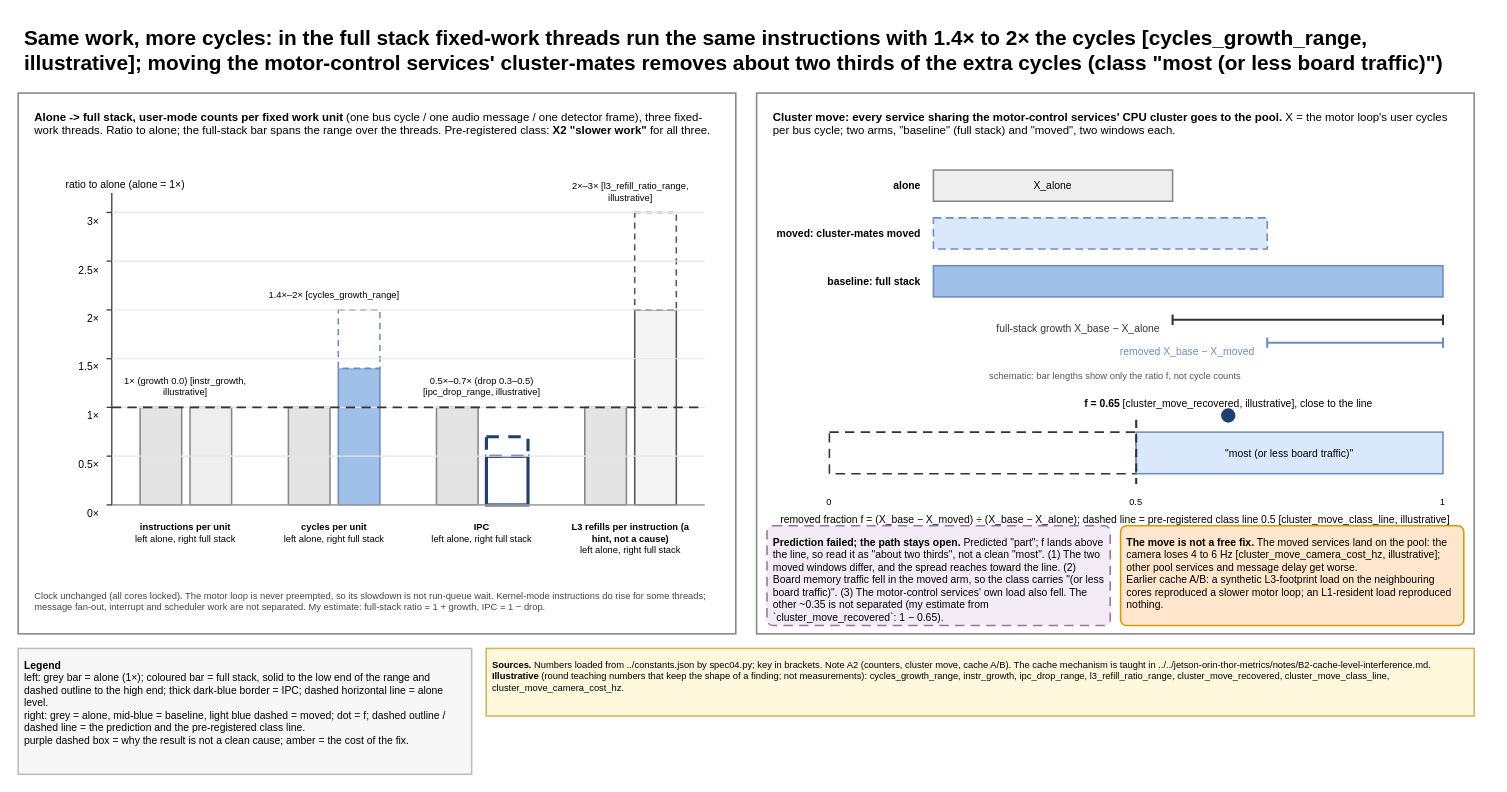
Image size: 1507x792. Some labels were removed from this diagram. Each missing label, with the centre of its shape:
"part" = predicted before the run: point (982, 452)
X_base: point (1187, 280)
X_moved: point (1100, 233)
